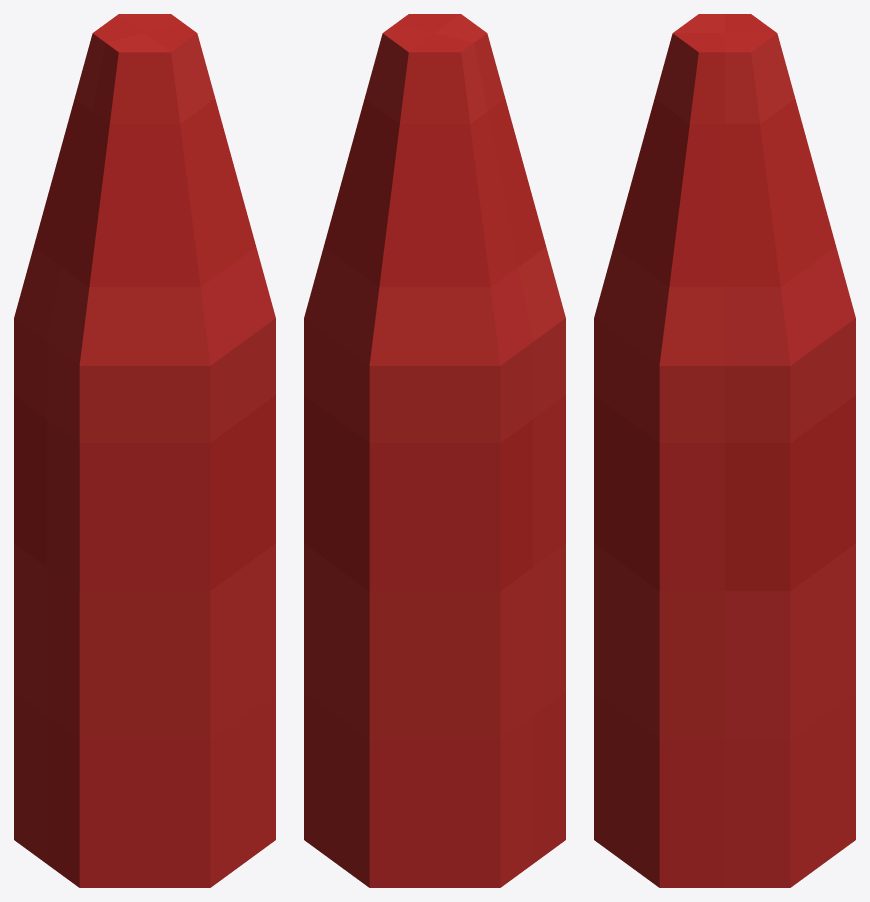
Rendered from env_bottle.glb.
The picture shows the model from 3 angles, left to right: view 1: azimuth 30°, elevation 25°; view 2: azimuth 150°, elevation 25°; view 3: azimuth 270°, elevation 25°; orthographic projection.
Visible parts, largest first — view 1: env_bottle; view 2: env_bottle; view 3: env_bottle.
Part boxes in pixels (x1=…): env_bottle: x1=14, y1=14, x2=275, y2=887; env_bottle: x1=304, y1=14, x2=565, y2=887; env_bottle: x1=594, y1=14, x2=855, y2=887.
Size of the model in its own units: 0.0866 by 0.34 by 0.1.
1 material, 1 textured.
